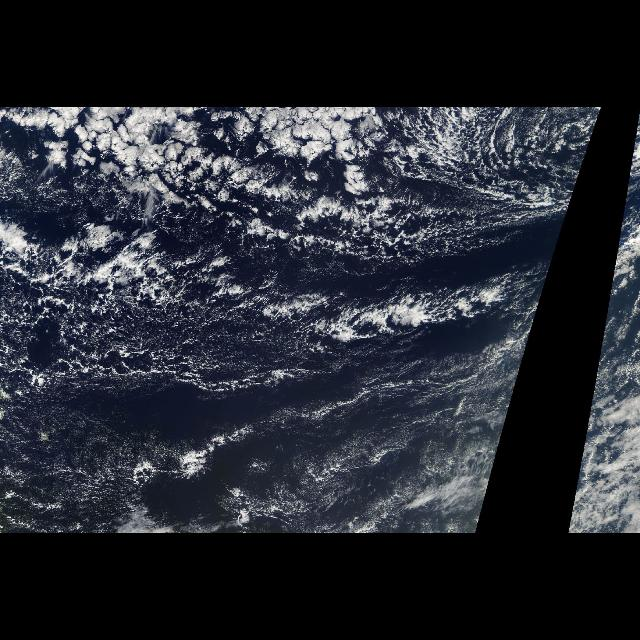Fish: (3, 140, 553, 422)
Flower: (42, 134, 442, 226)
Gravel: (0, 272, 328, 396)
Sugar: (5, 352, 518, 534)
